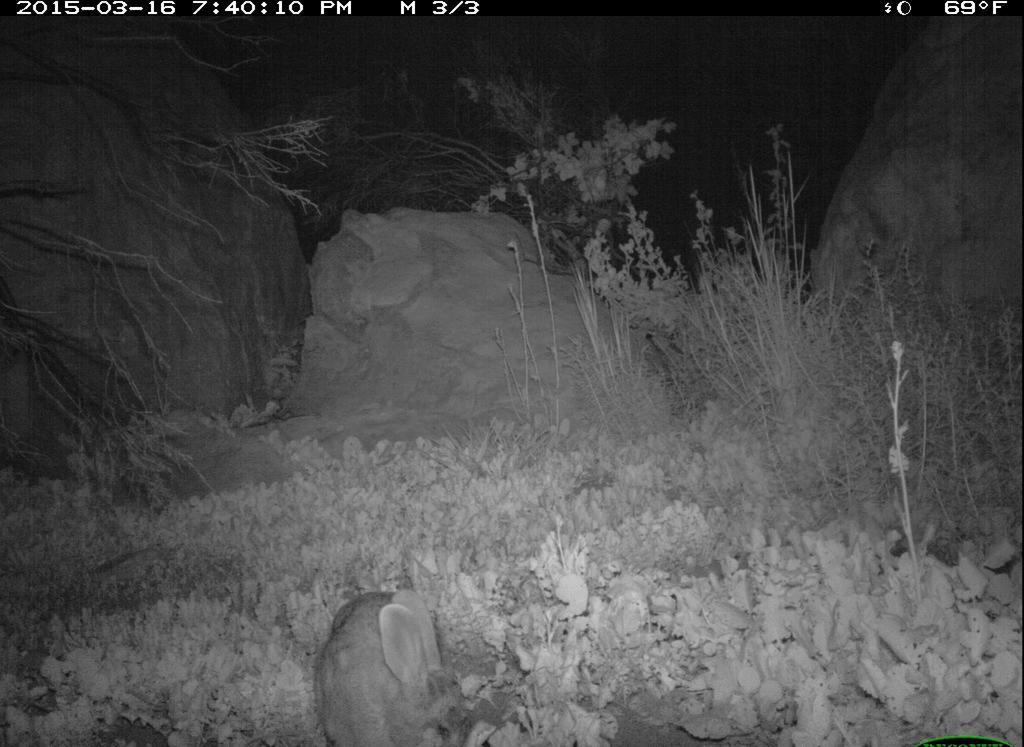rabbit: (310, 580, 491, 745)
